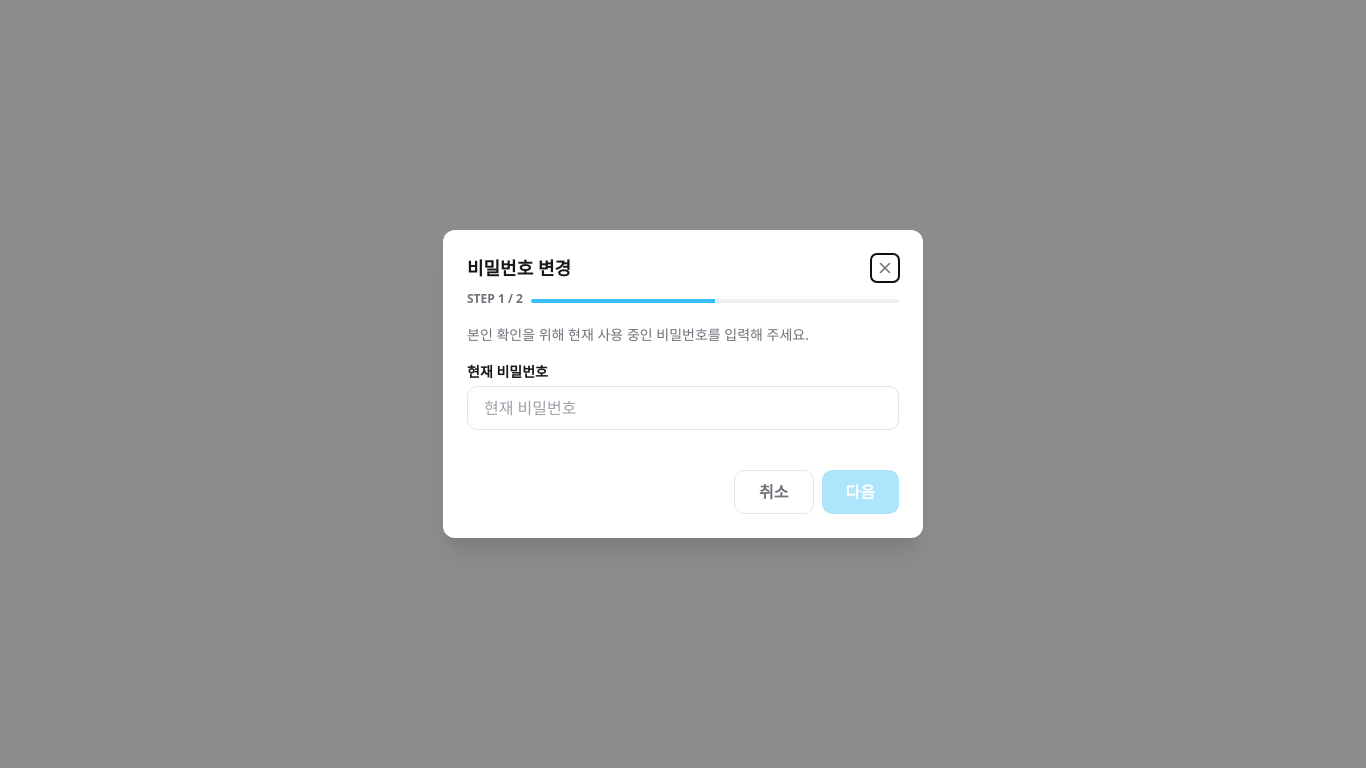
Scenario: PasswordChangeModal › STEP 1 → STEP 2 전환 › 현재 비번 입력 후 [다음] 클릭 시 STEP 2 로 이동한다
Type "currentPass123" into the password field labelled "현재 비밀번호" at (683, 408), box 467,386 -> 899,430
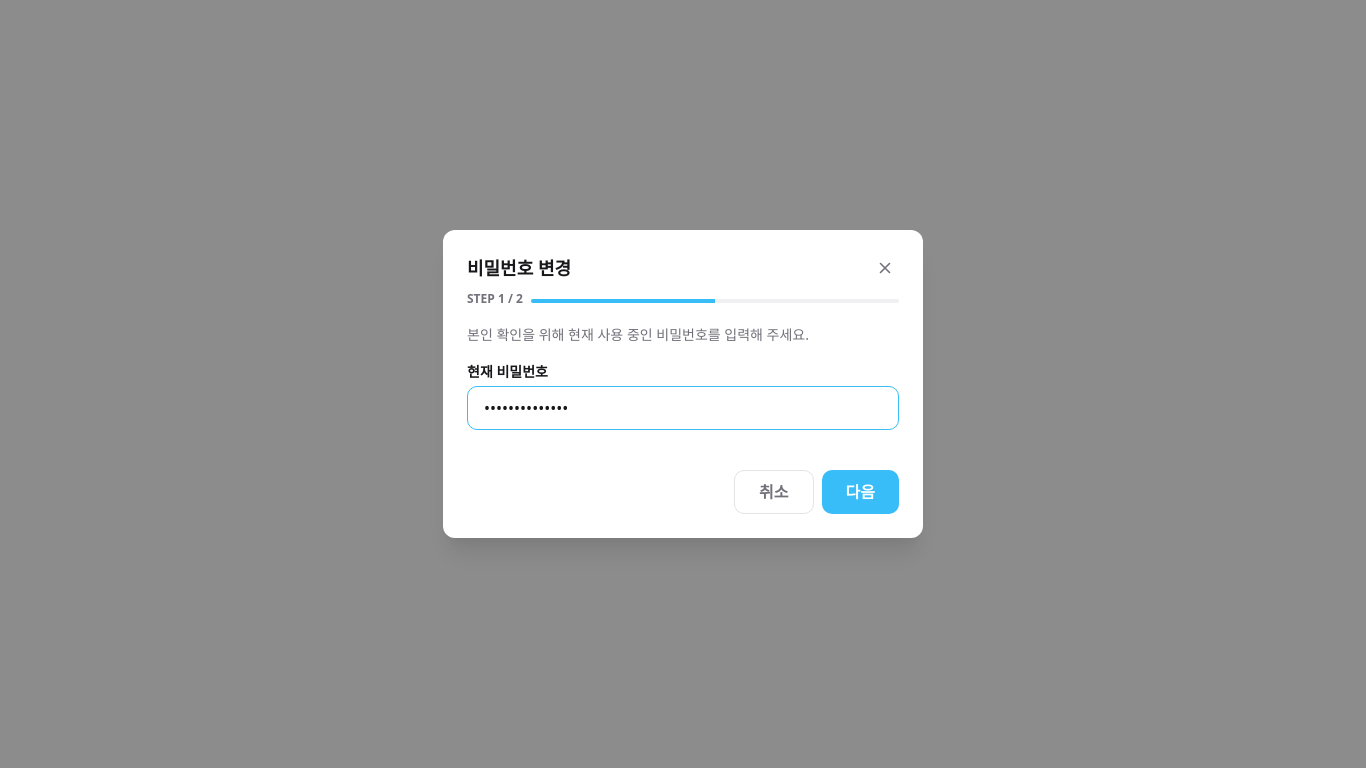
Click the button "다음" at (860, 492), box 822,470 -> 899,514
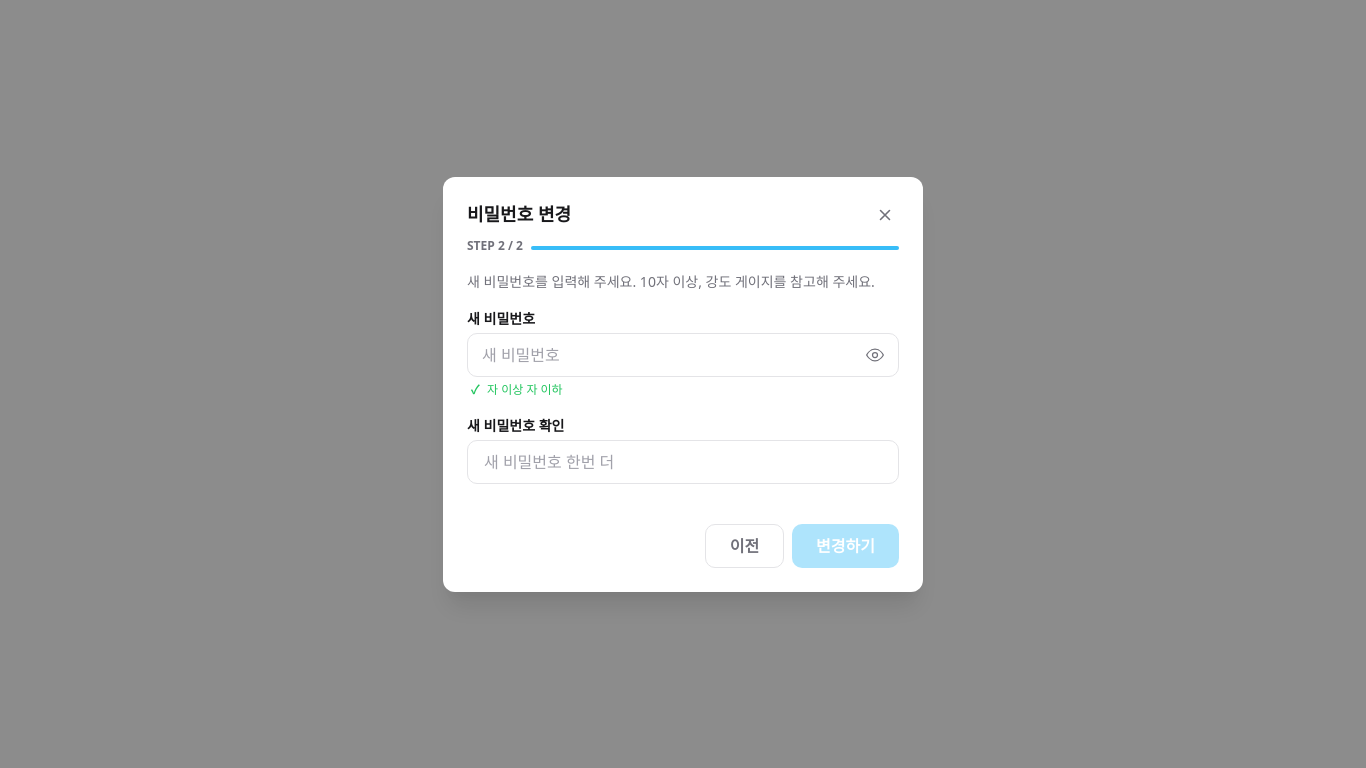
Expected: the text "STEP 2 / 2" is shown, 467,236 -> 523,254
